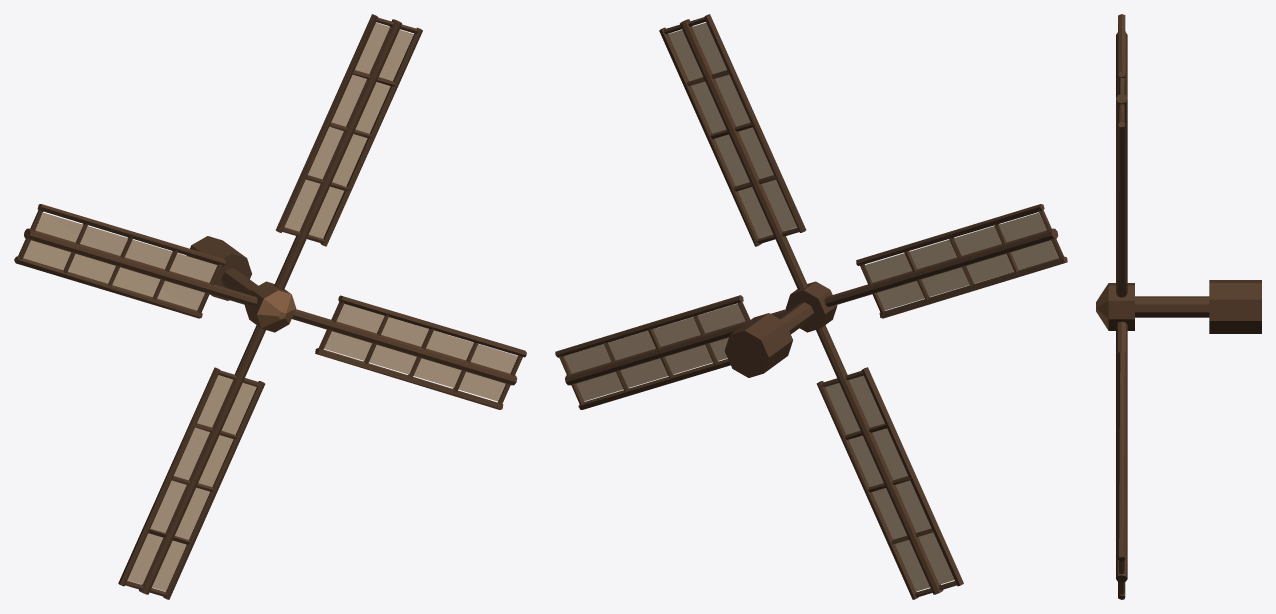
Rendered from Mesh_Buildings_Windmill_04.FBX.
3 views of the same model, side by side, from view 1: azimuth 30°, elevation 25°; view 2: azimuth 150°, elevation 25°; view 3: azimuth 270°, elevation 25° (orthographic). The views are drawn at different scales.
Visible parts, largest first — view 1: Mesh_Buildings_Windmill_04; view 2: Mesh_Buildings_Windmill_04; view 3: Mesh_Buildings_Windmill_04.
Boxes of the visible parts, <box> form: Mesh_Buildings_Windmill_04: <box>14,14,526,599</box>; Mesh_Buildings_Windmill_04: <box>555,14,1067,599</box>; Mesh_Buildings_Windmill_04: <box>1096,14,1261,599</box>.
Bounding box in the file's own units: 201 × 201 × 52.17.
